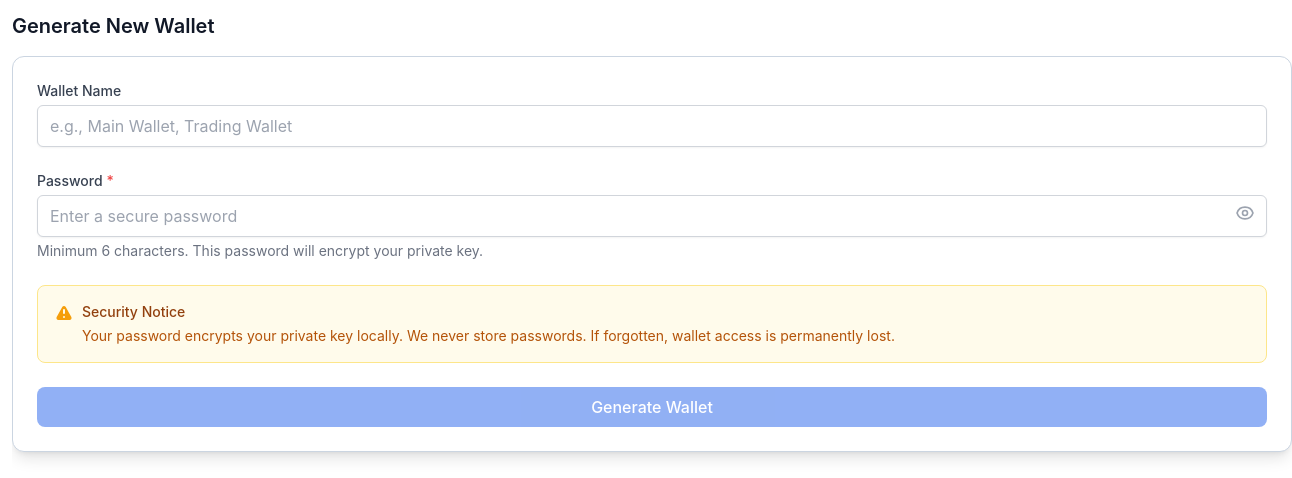
it: WalletGenerator › validates password length
Step 1. Type "123" into the password field with placeholder "Enter a secure password" → x=652, y=216, box [37,195,1267,237]
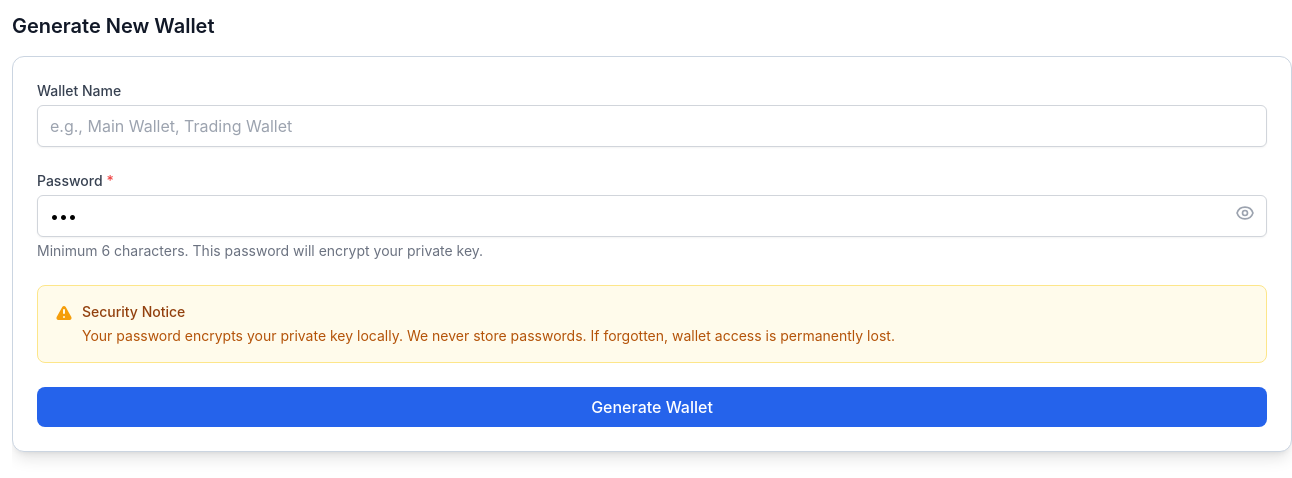
Step 2. Click the button "Generate Wallet" → x=652, y=407, box [37,387,1267,427]
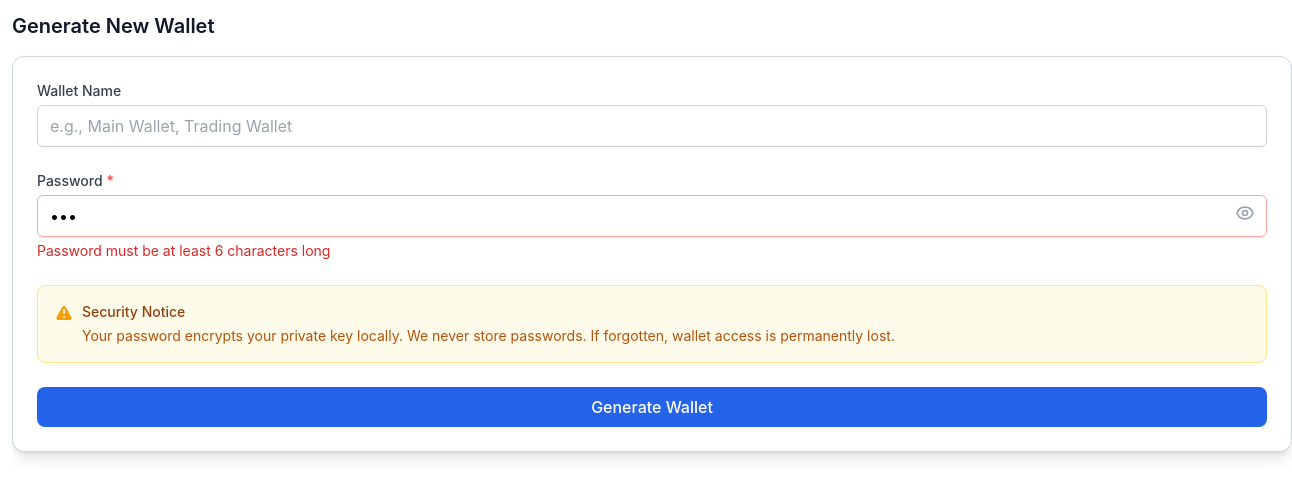
Expected: the text "Password must be at least 6 characters long" is shown, [37,242,330,259]
